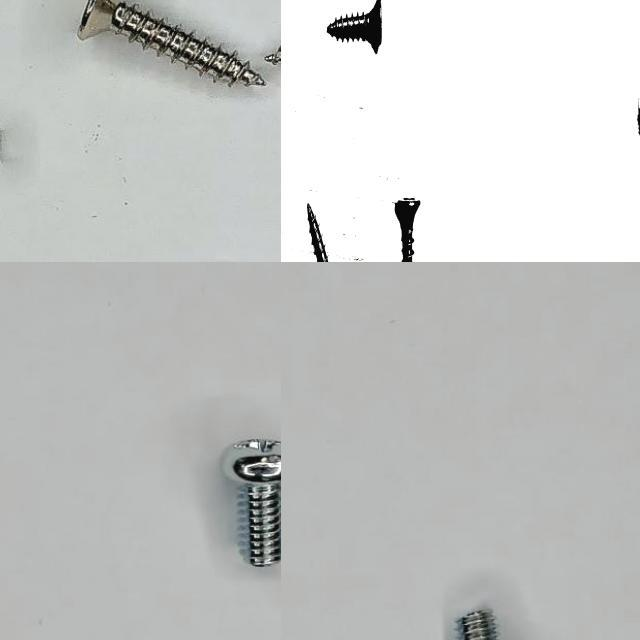Screw: (78, 0, 266, 86), (224, 440, 281, 568), (327, 0, 382, 52), (395, 196, 421, 262), (307, 202, 329, 262)
